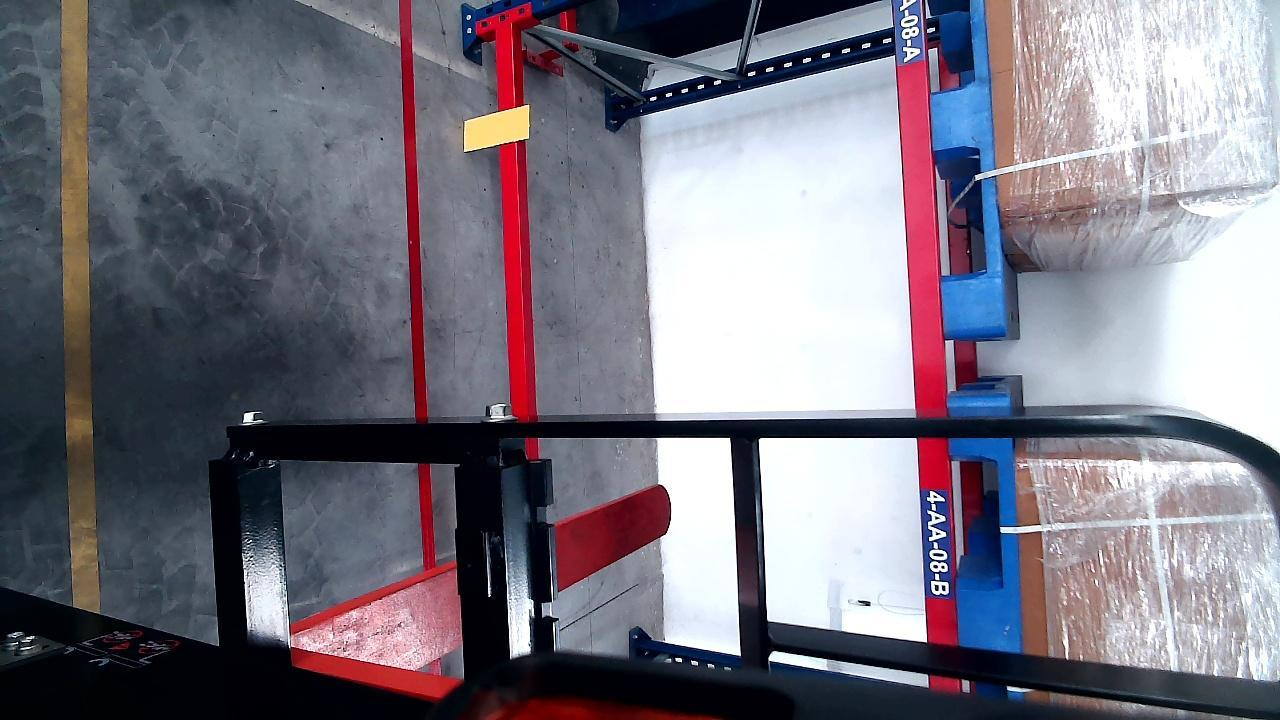red_line: (399, 0, 431, 421)
yellow_line: (58, 0, 99, 611)
